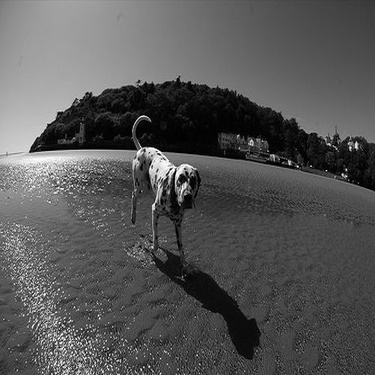dog: (116, 108, 207, 275)
